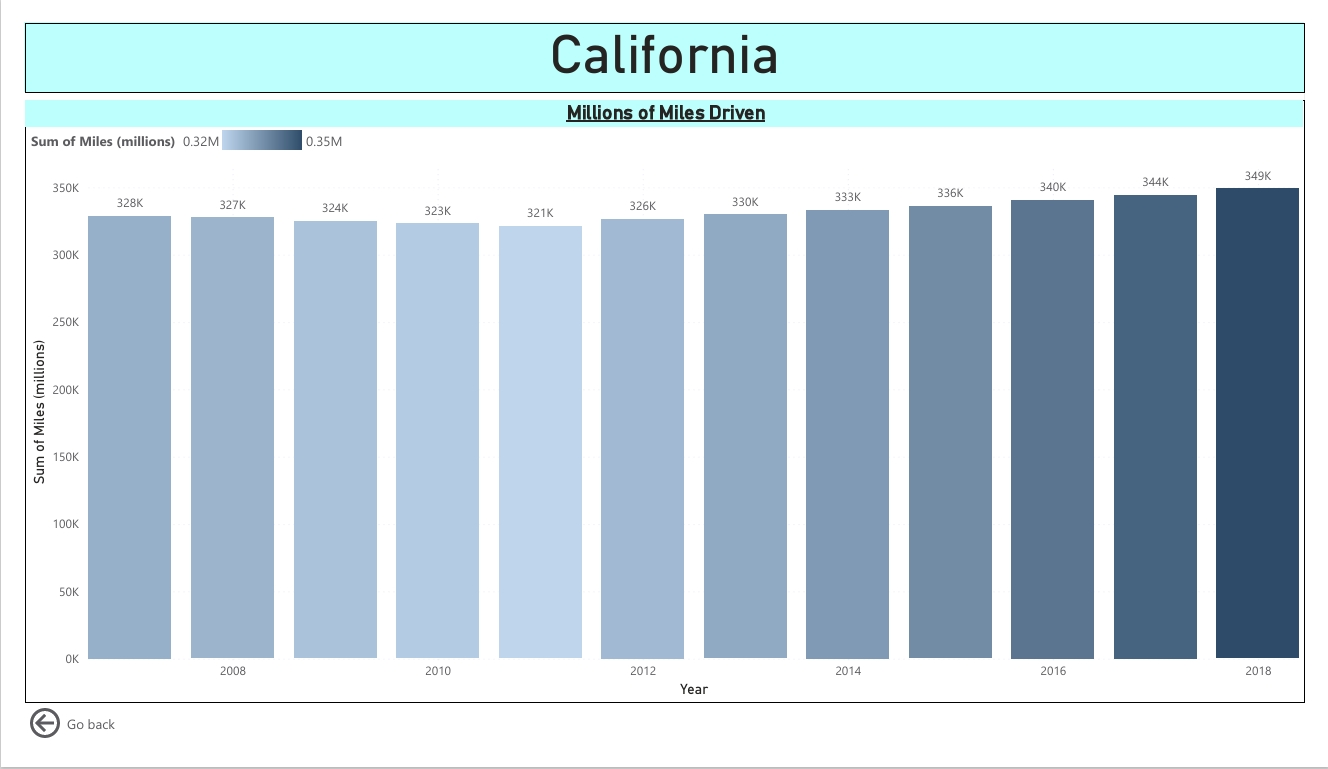

What the dashboard file says about the page in this screenshot:
{"tool":"powerbi","page":{"name":"Miles Driven","canvas":[1280,720],"ordinal":2},"visuals":[{"type":"columnChart","title":"Millions of Miles Driven","fields":{"Category":["PA - Driving Safety.Year"],"Y":["Sum(PA - Driving Safety.Miles (millions))"]},"box":[0,76.6,1280,603.2],"z":0},{"type":"actionButton","box":[0,679.8,94.3,40.3],"z":1000},{"type":"card","fields":{"Values":["Min(PA - Driving Safety.State)"]},"box":[0,0,1280,69.7],"z":2000}]}

Visuals, with their boxes in screenshot pixels (x1, y1, x2, y2), scaled from the page's 1280x720 canvas onto the 1328x769 screenshot:
"Millions of Miles Driven" columnChart: region(0, 82, 1327, 726)
actionButton: region(0, 726, 98, 768)
card - Min(PA - Driving Safety.State): region(0, 0, 1327, 74)
